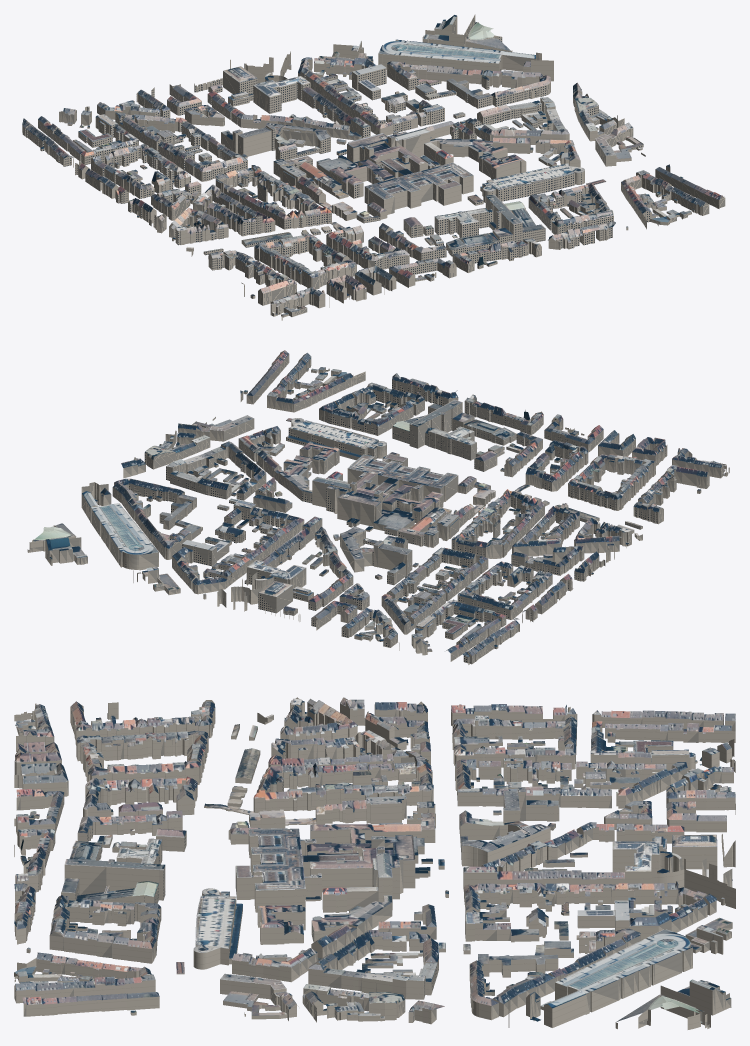
Rendered from klinikum_dortmund_lod2.glb.
3 views of the same model, one above another, from view 1: azimuth 30°, elevation 25°; view 2: azimuth 150°, elevation 25°; view 3: azimuth 270°, elevation 25° (orthographic). The views are drawn at different scales.
Parts seen in each view (by area): view 1: LoD2_Walls, LoD2_Roofs; view 2: LoD2_Walls, LoD2_Roofs; view 3: LoD2_Walls, LoD2_Roofs.
Boxes of the visible parts, x1,y1,x2,y2 form: LoD2_Walls: (22,14,725,320); LoD2_Roofs: (22,15,722,315); LoD2_Walls: (27,351,729,664); LoD2_Roofs: (33,350,727,656); LoD2_Walls: (14,697,735,1029); LoD2_Roofs: (14,697,735,1022).
Size of the model in its own units: 720 by 48.32 by 720.
2 materials, 2 textured.
